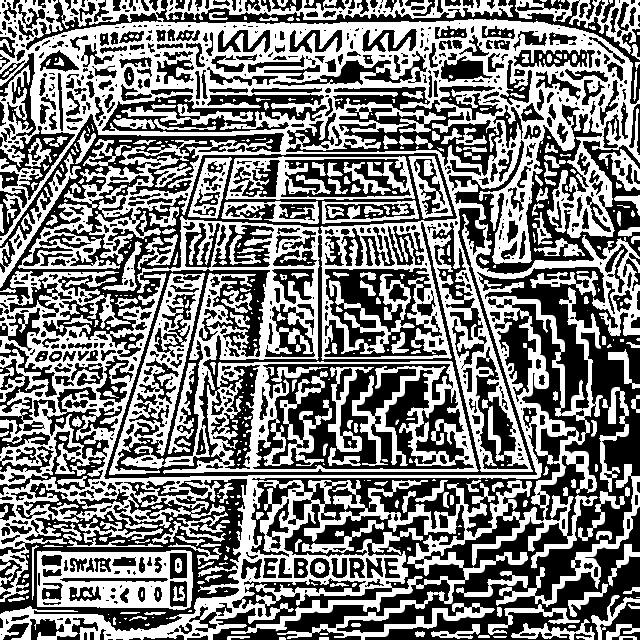left side: (106, 156, 234, 477), (407, 154, 535, 474)
player: (186, 344, 218, 466), (320, 87, 342, 149)
